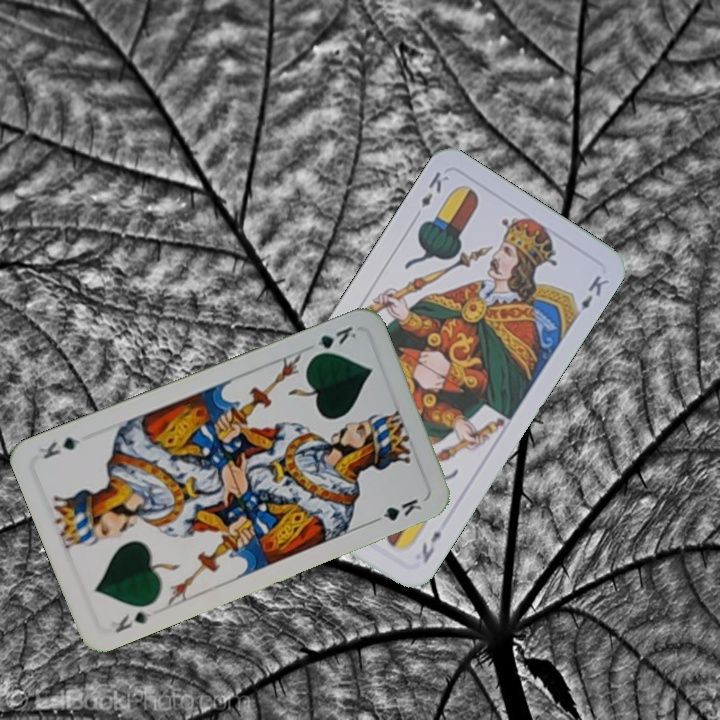EK: (417, 167, 452, 210), (417, 526, 444, 566)
GK: (307, 322, 359, 360), (111, 607, 155, 636)
